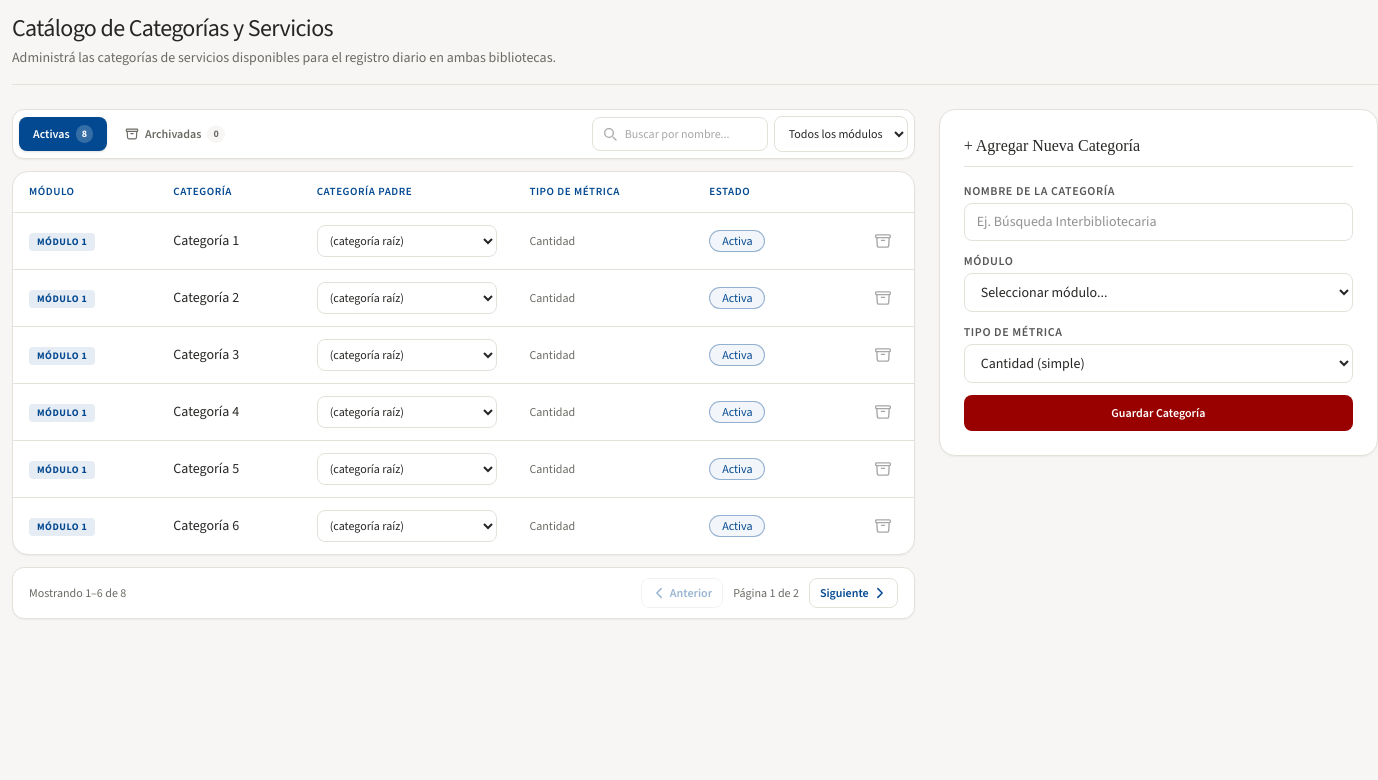
Test case: CategoriesView › pagina de 6 en 6 con Anterior y Siguiente
expect the text "Categoría 1" is shown: met, box [173,231,239,250]
expect the text "Categoría 6" is shown: met, box [173,516,239,535]
Click the button with aria-label "Página siguiente" at (853, 593), box [809,578,898,608]
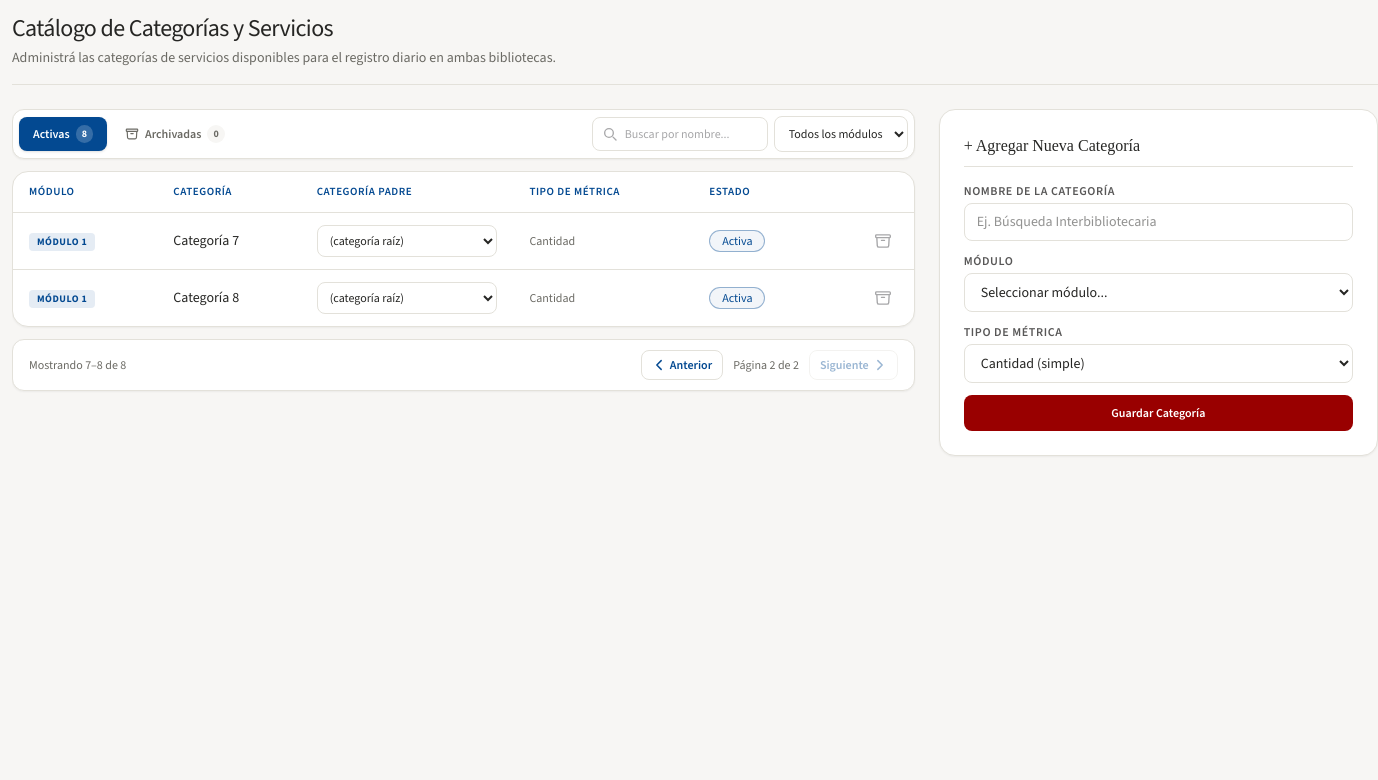
expect the text "Categoría 7" is shown: met, box [173,231,239,250]
expect the text "Categoría 1" is gone: met
expect the text "Mostrando 7–8 de 8" is shown: met, box [29,357,126,373]
Click the button with aria-label "Página anterior" at (682, 365), box [641,350,723,380]
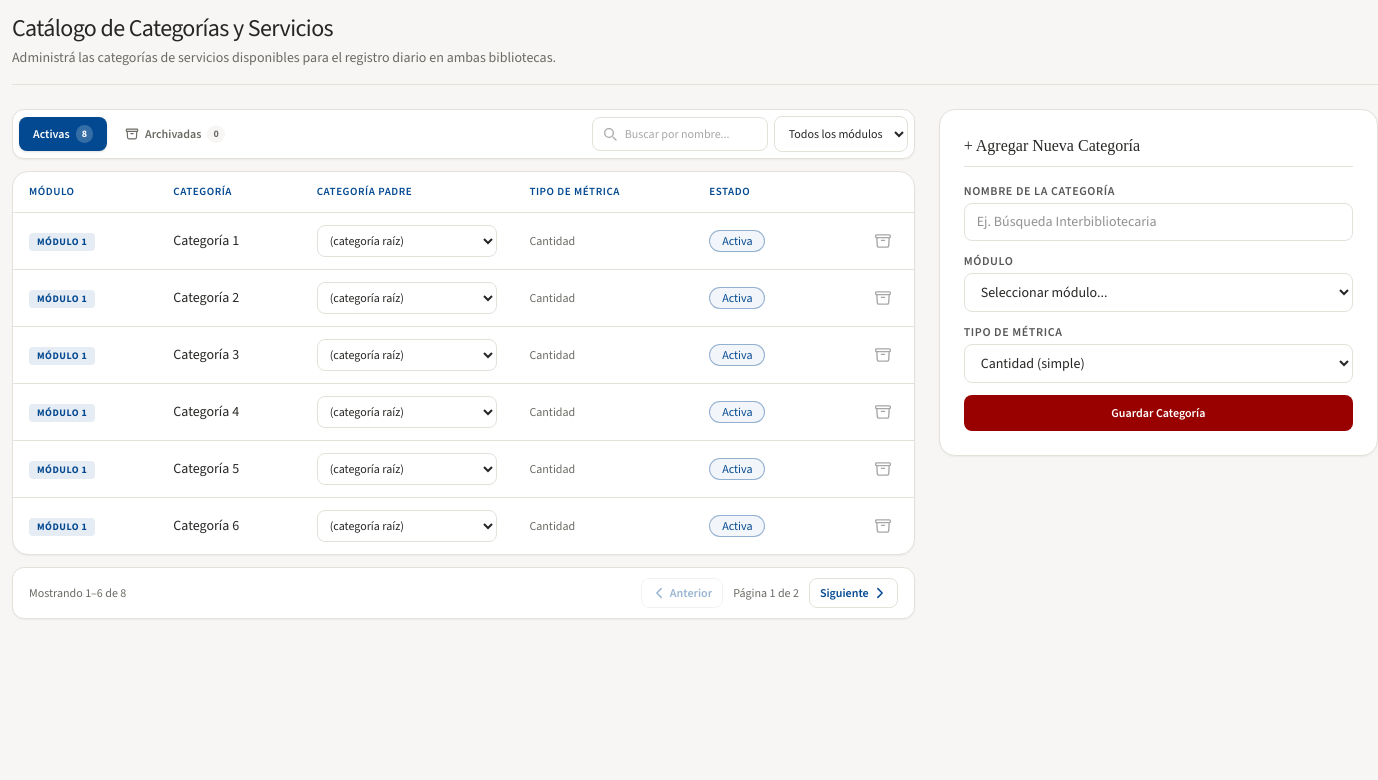
expect the text "Categoría 1" is shown: met, box [173,231,239,250]
expect the text "Página 1 de 2" is shown: met, box [729,585,803,601]
